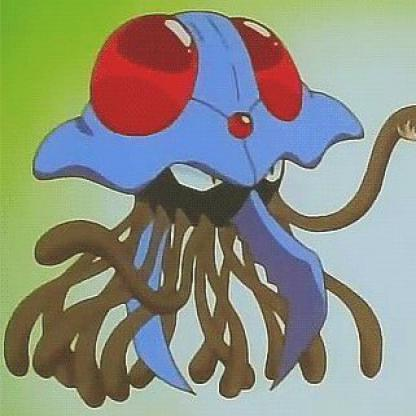Tentacruel: (18, 6, 416, 396)
